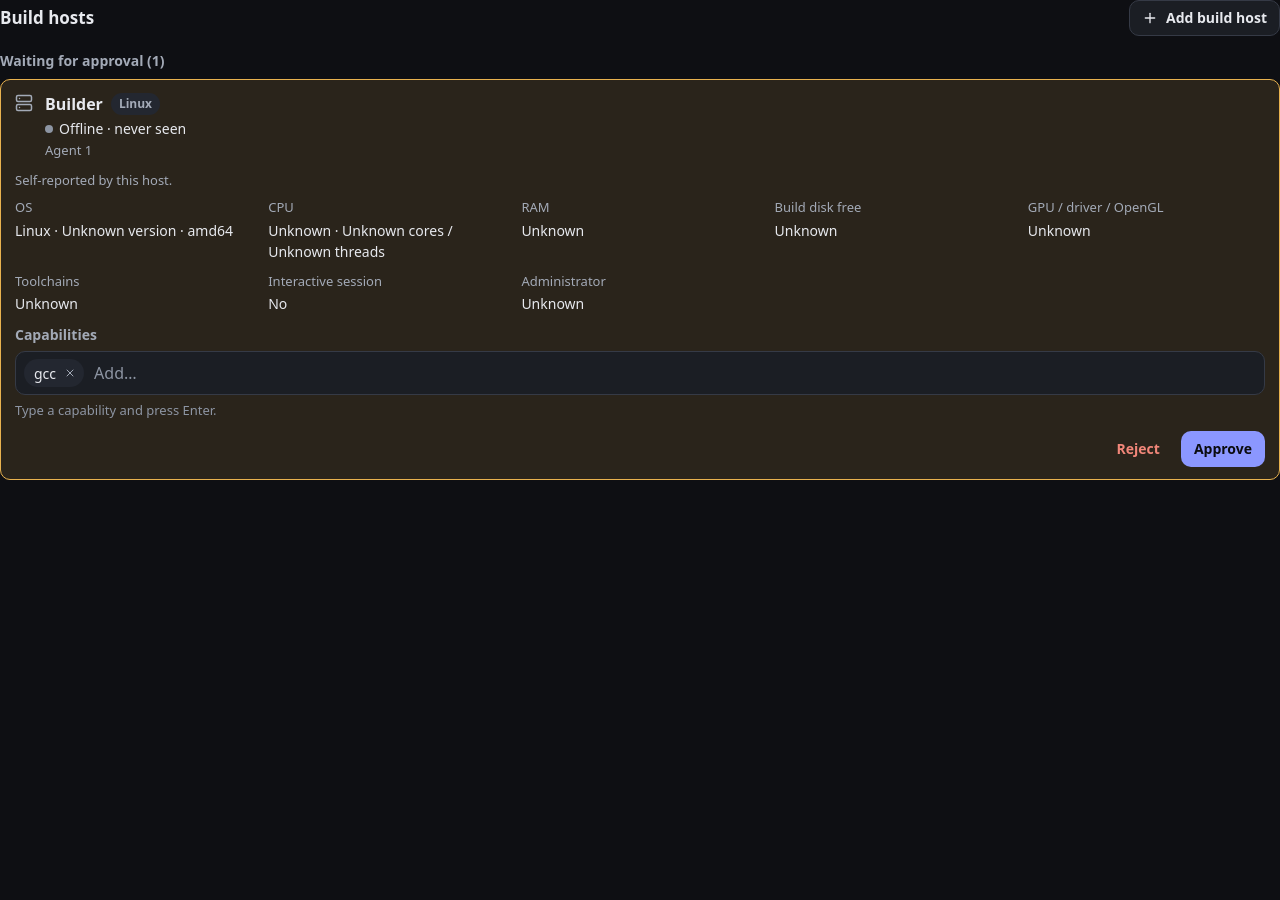
Test: confirms revocation, supports cancellation, and retains revoked records
The width and height of the screenshot is (1280, 900).
Later steps or results of the test are not shown.
Click the button "Reject".
click(1138, 448)  # box [1104,430,1173,466]
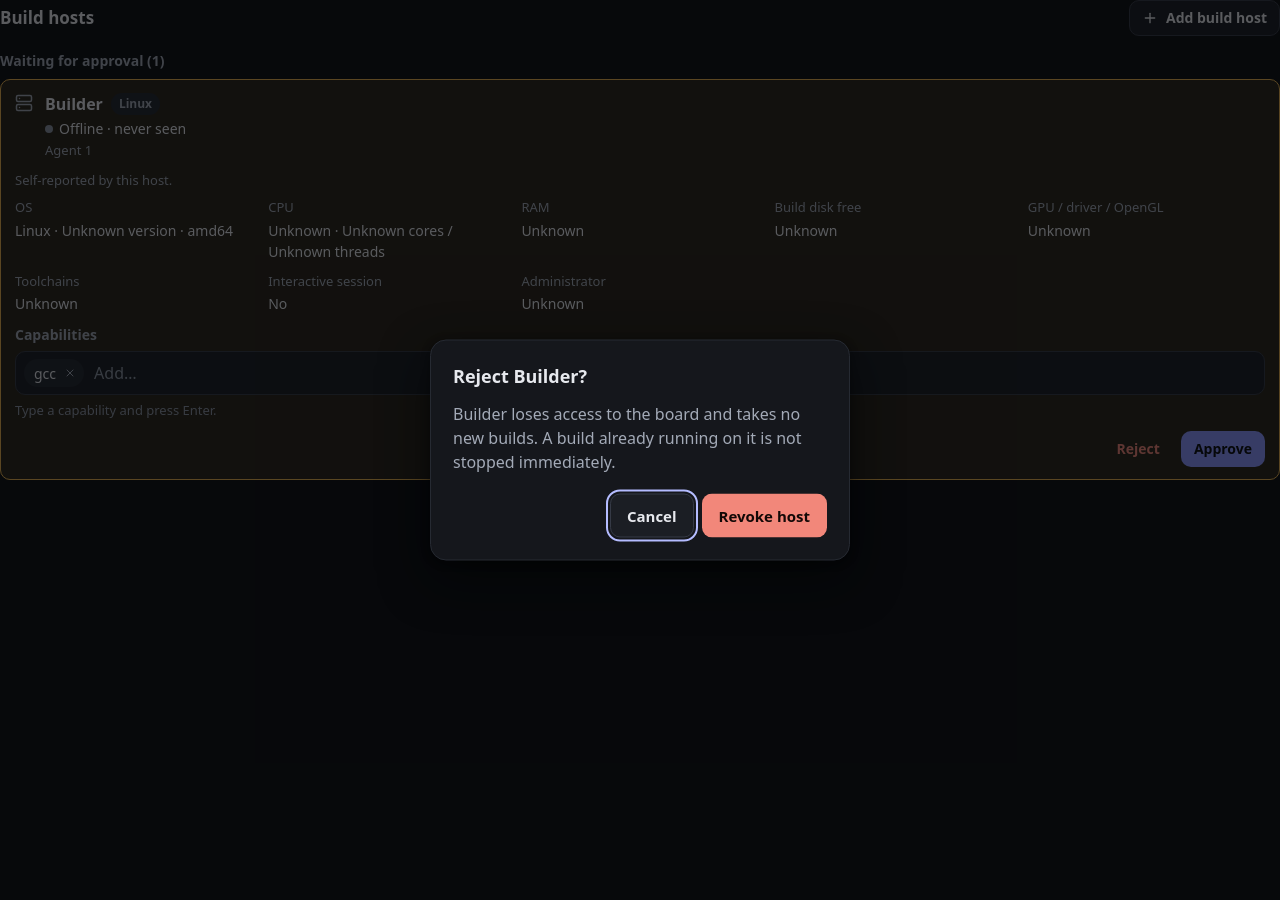
Now the button "Cancel" is shown
Click the button "Cancel".
click(652, 516)  # box [610,494,694,538]
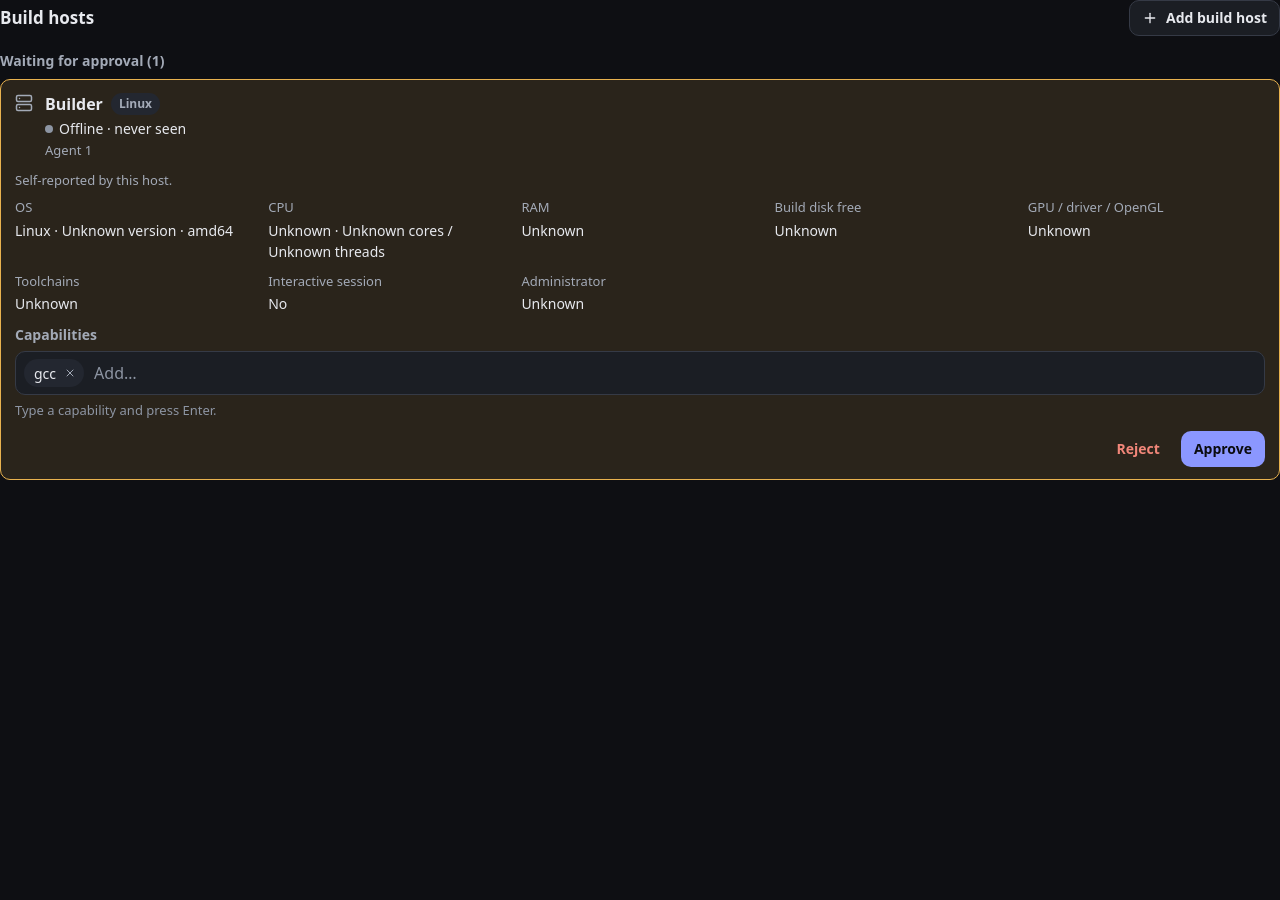
Click the button "Reject".
click(1138, 448)  # box [1104,430,1173,466]
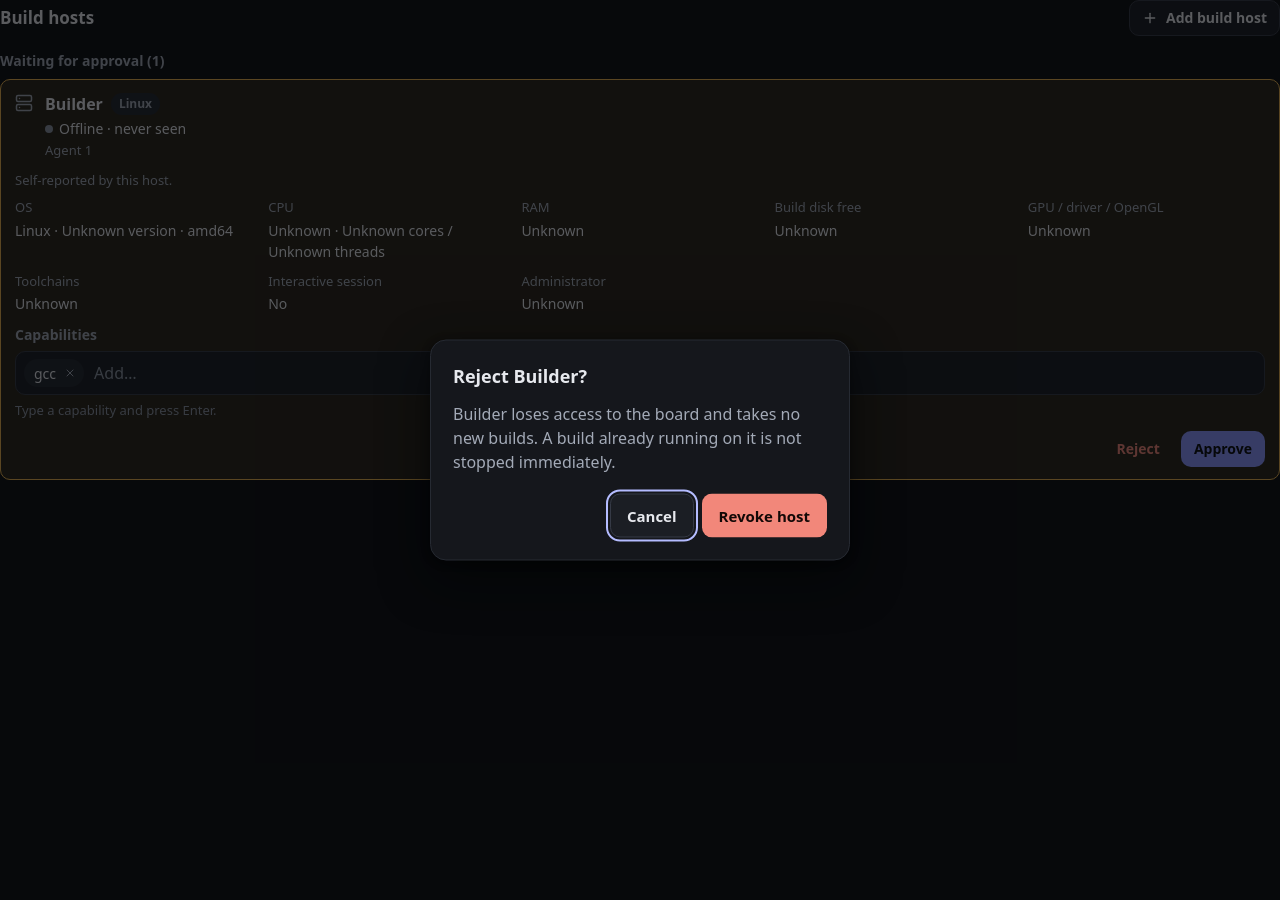
Now the button "Revoke host" is shown, box [702,494,827,538]
